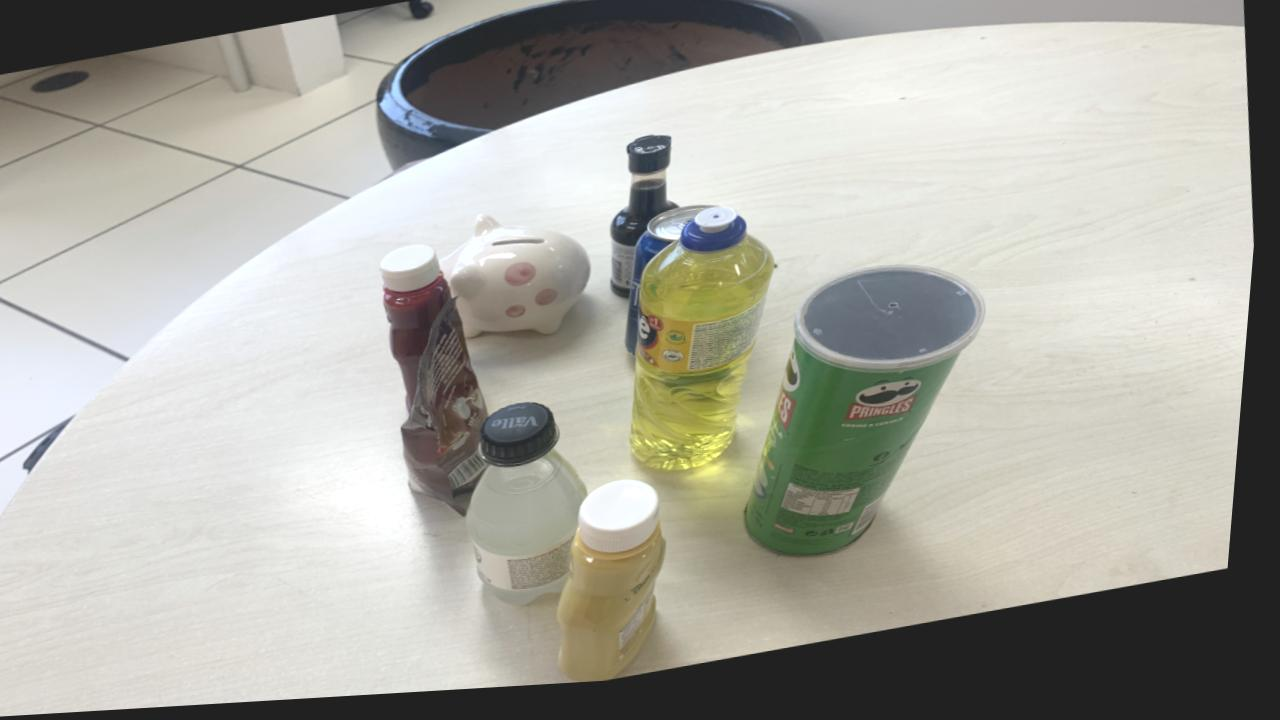Coffee-Pantry_Items: (408, 305, 497, 521)
Detergent-Cleanup_Items: (638, 215, 781, 479)
English_Sauce-Pantry_Items: (616, 143, 681, 305)
Ketchup-Pantry_Items: (386, 250, 456, 414)
Mustard-Pantry_Items: (568, 487, 676, 690)
Pig_Safe-Miscellaneous: (444, 221, 596, 345)
Pringles-Snacks: (754, 276, 991, 567)
Soda-Drinks: (476, 409, 597, 612), (633, 214, 714, 350)
